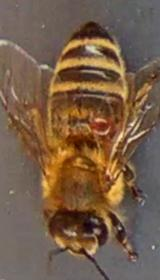varroa_mite: (92, 116, 118, 132)
